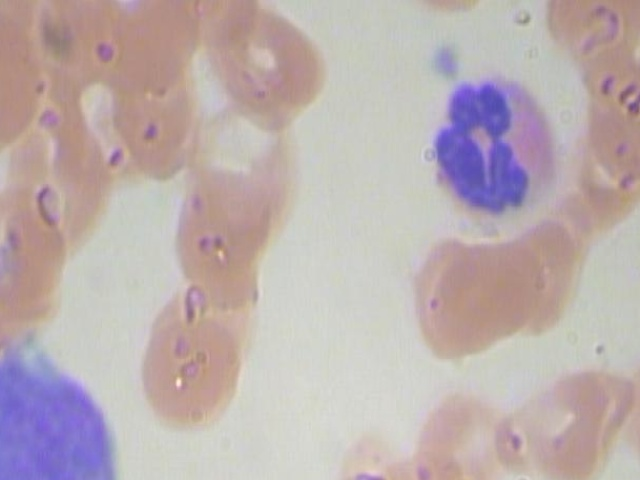Platelets: (425, 33, 463, 85)
RBC: (0, 98, 116, 253), (423, 222, 559, 351), (128, 303, 263, 432), (481, 203, 616, 331), (150, 161, 285, 289), (202, 0, 338, 123), (496, 360, 631, 480), (401, 379, 536, 480), (110, 44, 211, 179), (566, 60, 640, 195), (0, 0, 56, 152), (544, 0, 640, 71)
WBC: (419, 72, 569, 231), (0, 327, 126, 480)
